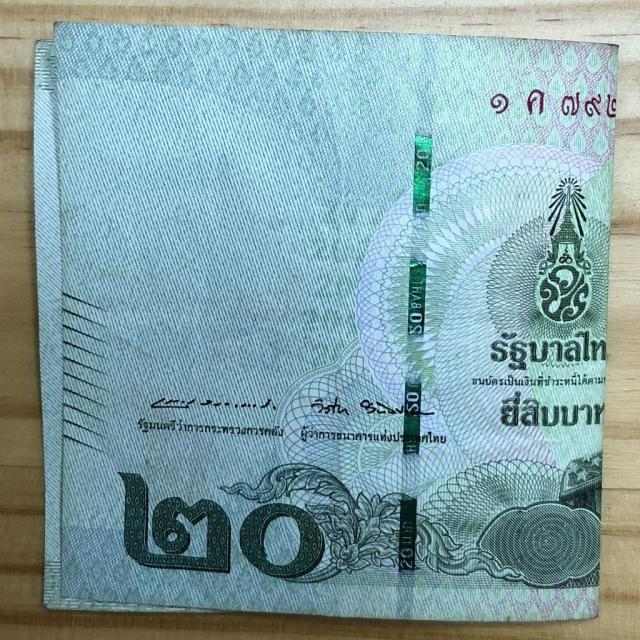THAI20: (31, 21, 621, 627)
